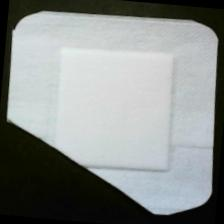Cut: (1, 1, 224, 221)
